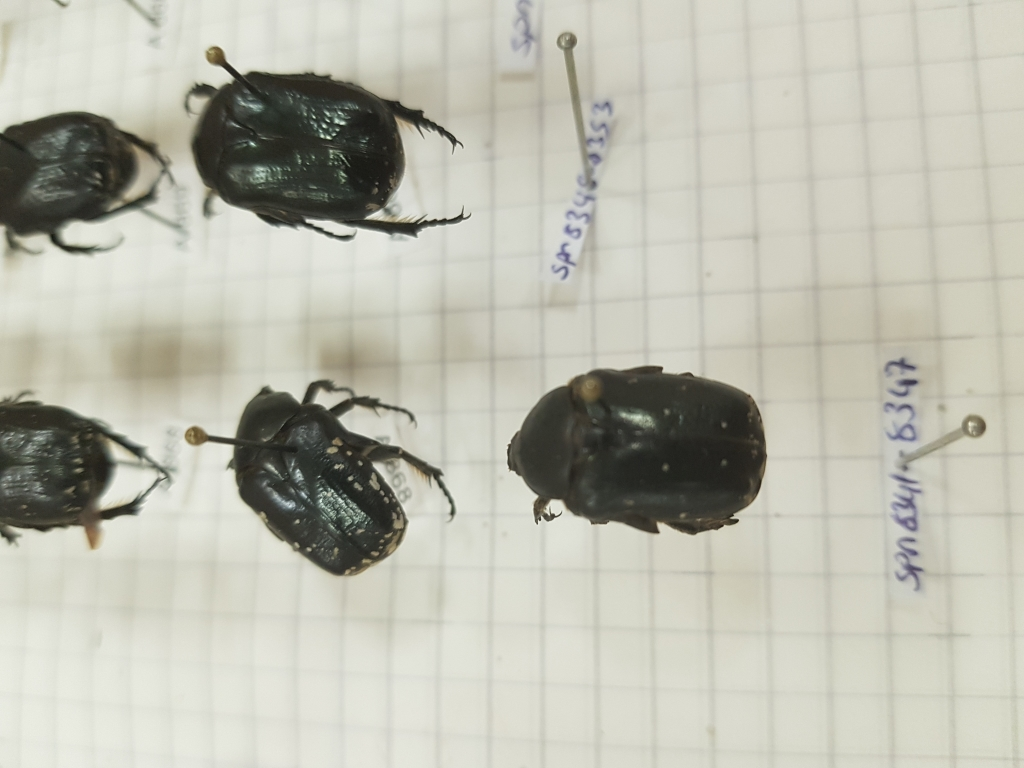Protaetia_funebris_funebris: (499, 349, 775, 559), (169, 60, 481, 245), (220, 364, 459, 598)
